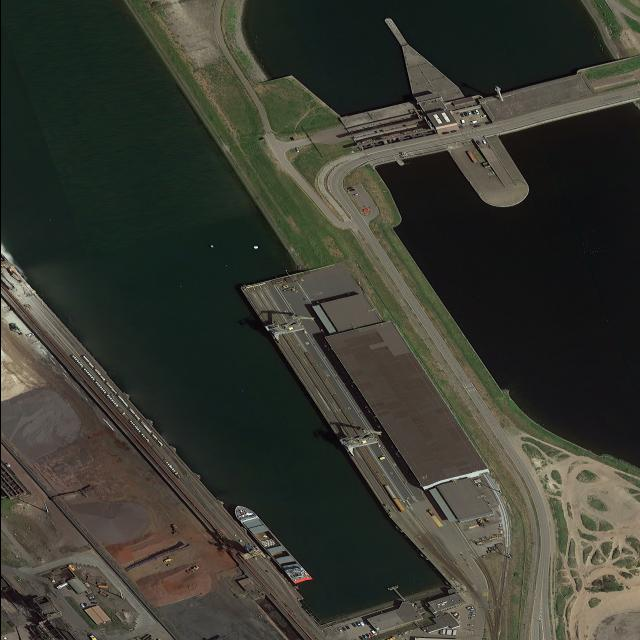ship: (232, 505, 314, 585)
